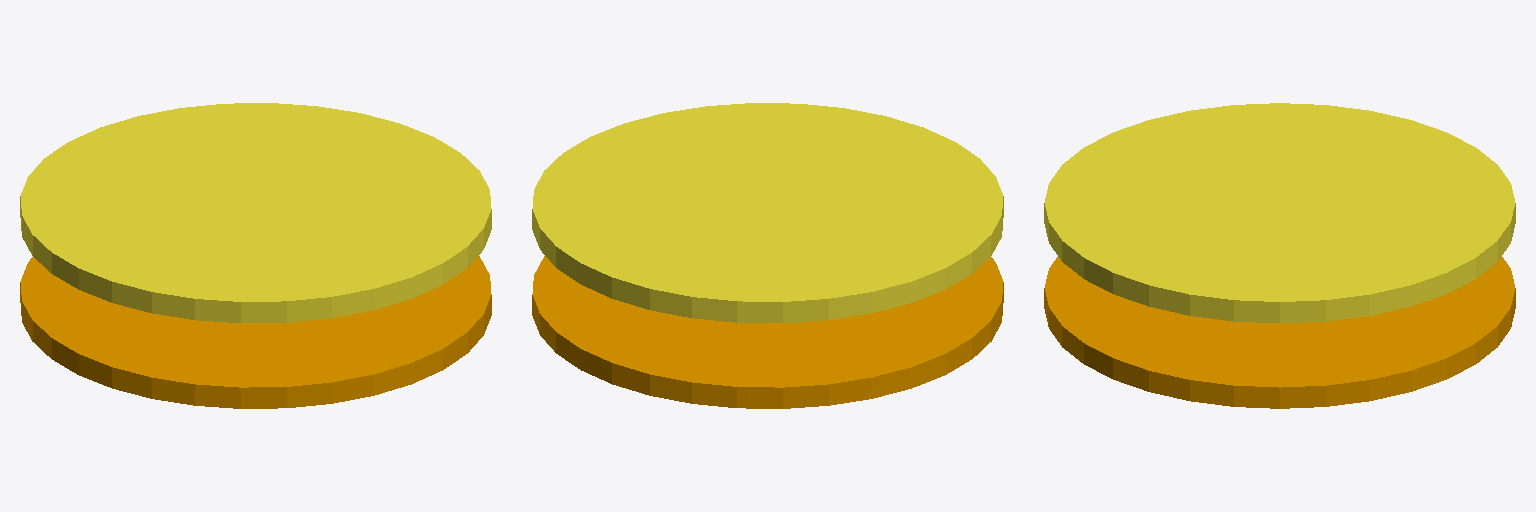
The robot description file, URDF, robot "BellowsOrigami":
<?xml version="1.0"?>
<robot name="BellowsOrigami">

    <!-- Base link -->
    <link name="base">
        <visual>
            <geometry>
                <cylinder length="0.05" radius="0.5"/>
            </geometry>
        </visual>
        <collision>
            <geometry>
                <cylinder length="0.05" radius="0.5"/>
            </geometry>
        </collision>

        <inertial>
            <mass value="2"/>
            <inertia ixx="1.0" ixy="0.0" ixz="0.0" iyy="1.0" iyz="0.0" izz="1.0"/>
        </inertial>
    </link>

    <link name="dummyLinkX">
        <inertial>
            <mass value="0.001"/>
            <inertia ixx="0.001" ixy="0" ixz="0" iyy="0.001" iyz="0" izz="0.001"/>
        </inertial>
    </link>

    <link name="dummyLinkY">
        <inertial>
            <mass value="0.001"/>
            <inertia ixx="0.001" ixy="0" ixz="0" iyy="0.001" iyz="0" izz="0.001"/>
        </inertial>
    </link>



    <!-- Segment1 link -->
    <link name="segment1">
        <visual>
            <geometry>
                <cylinder length="0.05" radius="0.5"/>
            </geometry>
        </visual>
        <collision>
            <geometry>
                <cylinder length="0.05" radius="0.5"/>
            </geometry>
        </collision>

        <inertial>
        <mass value="2"/>
        <inertia ixx="1.0" ixy="0.0" ixz="0.0" iyy="1.0" iyz="0.0" izz="1.0"/>
        </inertial>
    </link>

  
  <joint name="bend_joint_x" type="revolute">
        <parent link="base"/>
        <child link="dummyLinkX"/>
        <axis xyz="1 0 0"/>
        <limit lower="-1.57" upper="1.57" effort="10" velocity="1"/>
  </joint>
  <joint name="bend_joint_y" type="revolute">
        <parent link="dummyLinkX"/>
        <child link="dummyLinkY"/>
        <axis xyz="0 1 0"/>
        <limit lower="-1.57" upper="1.57" effort="10" velocity="1"/>
    </joint>

  <joint name="linear_joint" type="prismatic">
    <parent link="base"/>
    <child link="segment1"/>
    <axis xyz="0 0 1"/>
    <limit lower="0" upper="0.5" effort="100" velocity="0.1"/>
    <origin xyz="0 0 0.2"/>
  </joint>

 

</robot>

--- What the picture shows (computed from the rendered views, not written in the file) ---
Views: 3 orthographic renders of the robot side by side, from view 1: azimuth 30°, elevation 25°; view 2: azimuth 150°, elevation 25°; view 3: azimuth 270°, elevation 25°.
Robot: BellowsOrigami — 4 links, 3 joints (2 revolute, 1 prismatic); root link base; default pose: all joints at 0.
Visible links, largest first — view 1: segment1, base; view 2: segment1, base; view 3: segment1, base.
Boxes of the visible links, bbox=[...] form: segment1: bbox=[20, 103, 491, 322]; base: bbox=[20, 256, 491, 408]; segment1: bbox=[532, 103, 1003, 322]; base: bbox=[532, 256, 1003, 408]; segment1: bbox=[1044, 103, 1515, 322]; base: bbox=[1044, 257, 1515, 408].
Bounding box of the posed robot: 1 × 1 × 0.25 m (x, y, z).
Geometry: primitives only (box / cylinder / sphere), no mesh files.